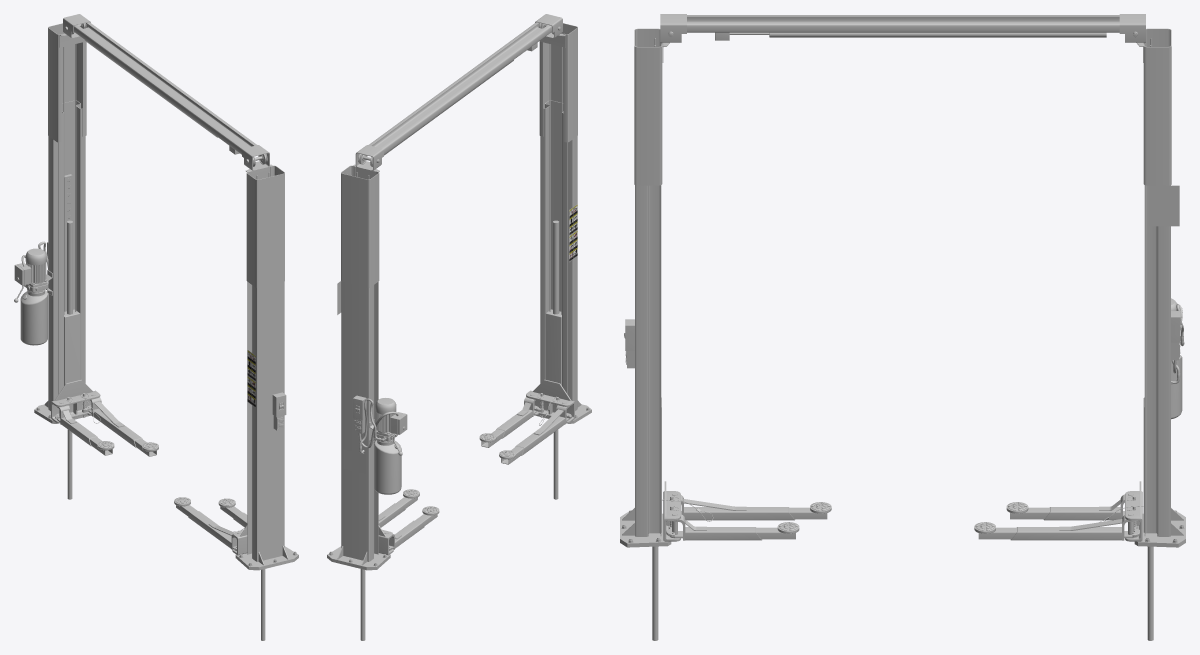
File: elevador_dospostes.fbx
3 renders of one model, left to right at view 1: azimuth 30°, elevation 25°; view 2: azimuth 150°, elevation 25°; view 3: azimuth 270°, elevation 25°, orthographic. The views are drawn at different scales.
Parts seen in each view (by area): view 1: lateral (×2), techo, hidraulico (×2), motor, brazo_largo (×2), dientes, brazo_corto, cable_der, senaletica_poste; view 2: lateral (×2), techo, hidraulico (×2), motor, brazo_corto (×2), brazo_largo, cable_izq, senaletica_poste, tarjeta_control; view 3: lateral (×2), techo, brazo_largo (×2), hidraulico (×2), brazo_corto (×2), peligro_elevador.
Part boxes in pixels (x1,y1,x2,y2): lateral (×2): (34, 23, 298, 570); techo: (59, 14, 272, 179); hidraulico (×2): (51, 220, 265, 640); motor: (14, 248, 52, 345); brazo_largo (×2): (86, 397, 236, 550); dientes: (64, 174, 72, 311); brazo_corto: (55, 405, 97, 446); cable_der: (75, 44, 76, 311); senaletica_poste: (247, 350, 255, 407); lateral (×2): (327, 23, 591, 570); techo: (353, 14, 565, 179); hidraulico (×2): (360, 220, 574, 640); motor: (369, 398, 407, 494); brazo_corto (×2): (389, 397, 538, 550); brazo_largo: (515, 405, 571, 455); cable_izq: (549, 44, 550, 311); senaletica_poste: (569, 204, 577, 261); tarjeta_control: (343, 449, 365, 473); lateral (×2): (620, 28, 1185, 547); techo: (660, 14, 1145, 62); brazo_largo (×2): (681, 495, 1139, 540); hidraulico (×2): (652, 397, 1153, 640); brazo_corto (×2): (666, 494, 1124, 540); peligro_elevador: (1149, 185, 1179, 226).
Size of the model in its own units: 7.29 by 46.51 by 38.41.
